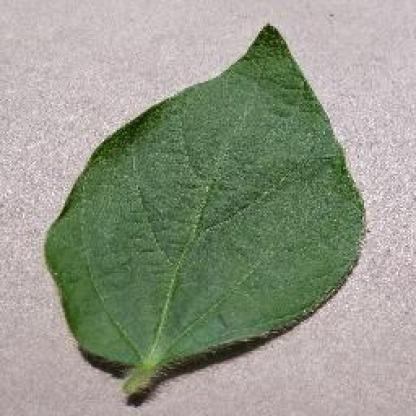soy: (18, 13, 380, 407)
